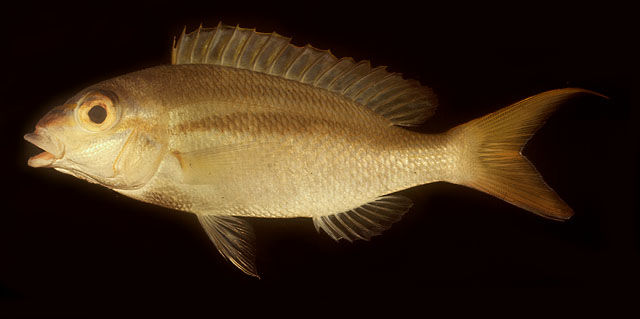fish: (23, 21, 608, 278)
